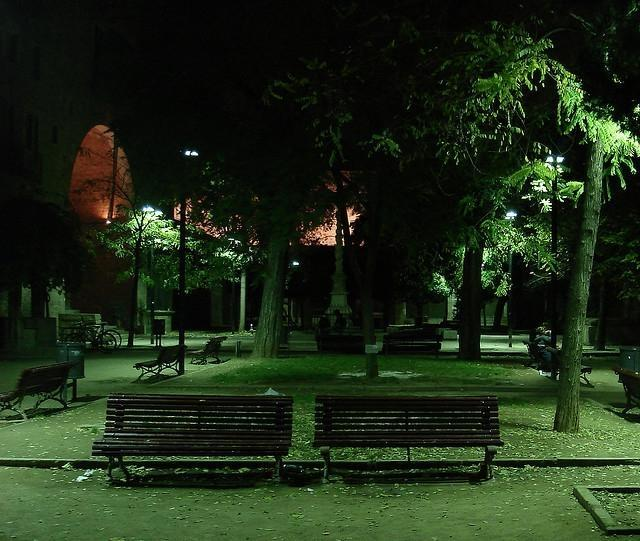bicycle: (64, 321, 118, 354), (99, 322, 123, 349)
